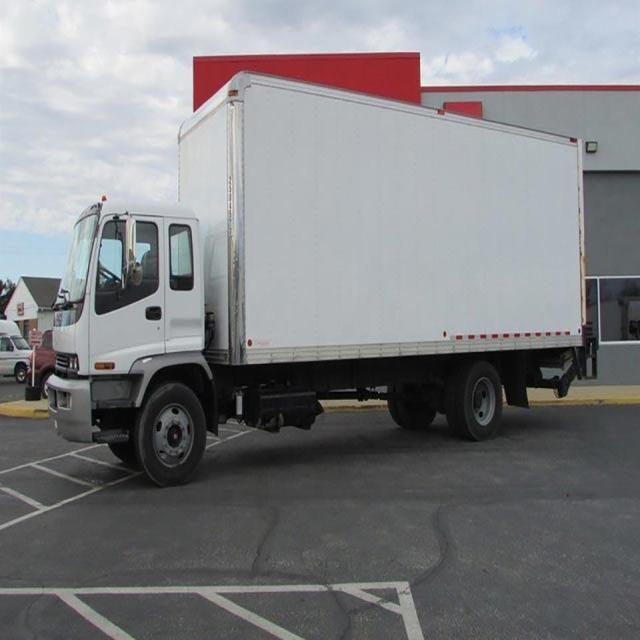truck: (56, 74, 590, 466)
